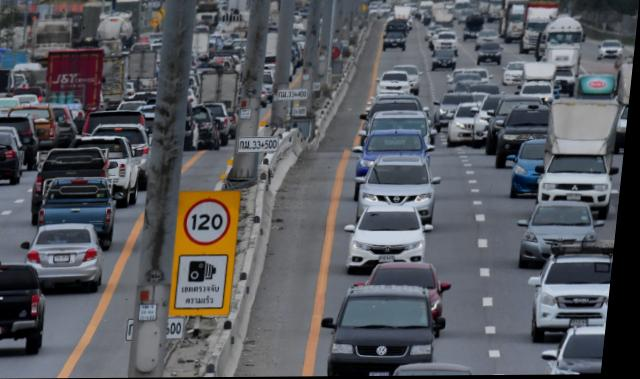limit120: (188, 196, 238, 248)
